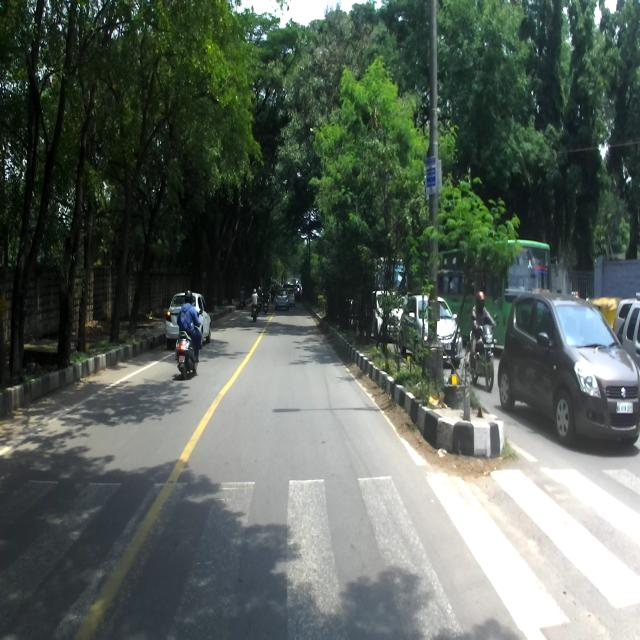car ahead at: (500, 291, 640, 447)
motorcycle ahead at: (173, 333, 206, 380)
